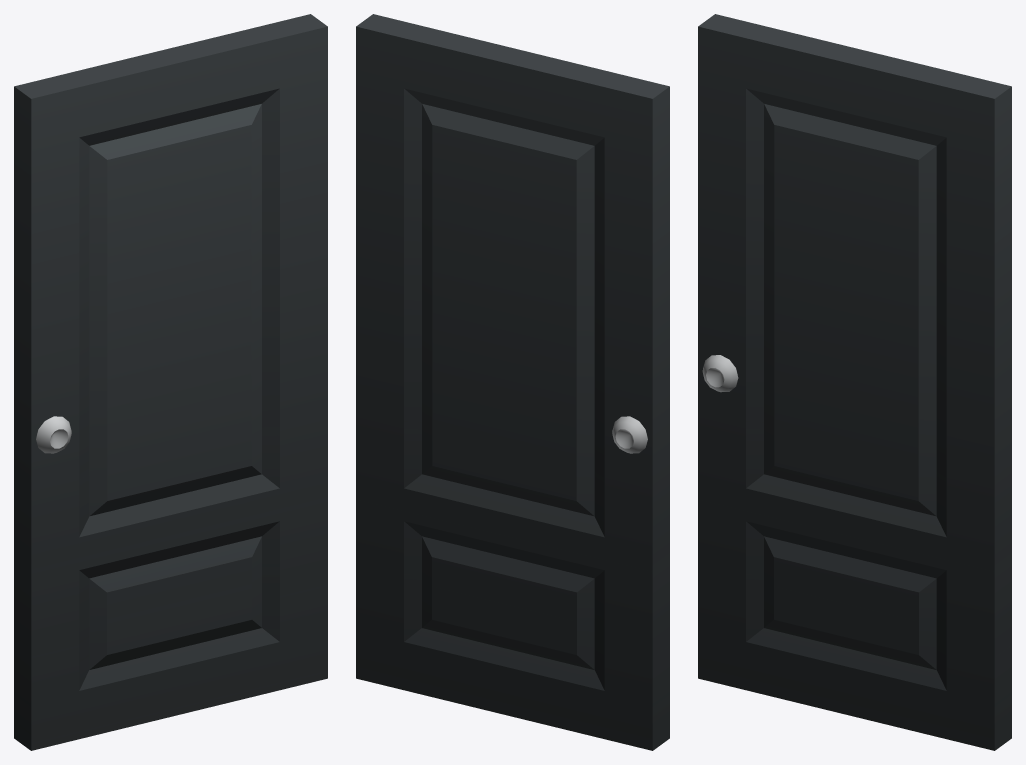
File: Door_Black_02.glb
The picture shows the model from 3 angles, left to right: view 1: azimuth 30°, elevation 25°; view 2: azimuth 150°, elevation 25°; view 3: azimuth 330°, elevation 25°; orthographic projection.
Parts seen in each view (by area): view 1: Door_Black_02; view 2: Door_Black_02; view 3: Door_Black_02.
Part boxes in pixels (box(x1,y1,x2,y2)): Door_Black_02: box(14, 14, 327, 750); Door_Black_02: box(356, 14, 669, 750); Door_Black_02: box(698, 14, 1011, 750).
Bounding box in the file's own units: 1 × 2.1 × 0.1634.
Materials: 1 (1 with a texture image).
